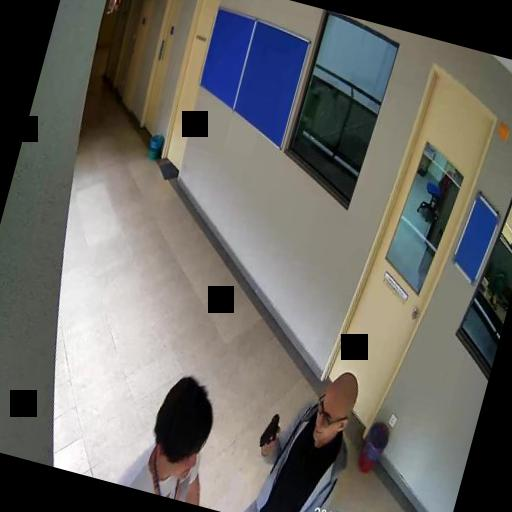Handgun: (256, 409, 282, 450)
